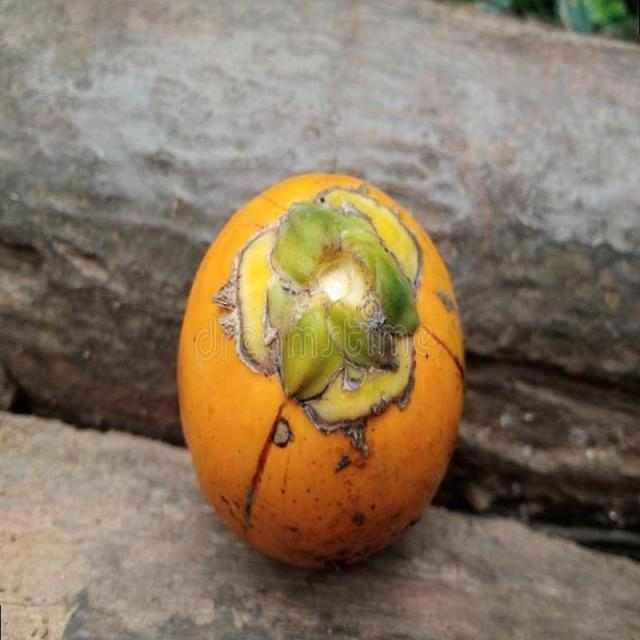good: (177, 175, 464, 573)
